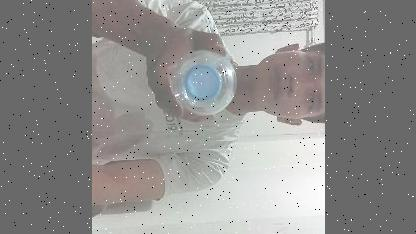Plastic Bottle: (164, 48, 240, 119)
